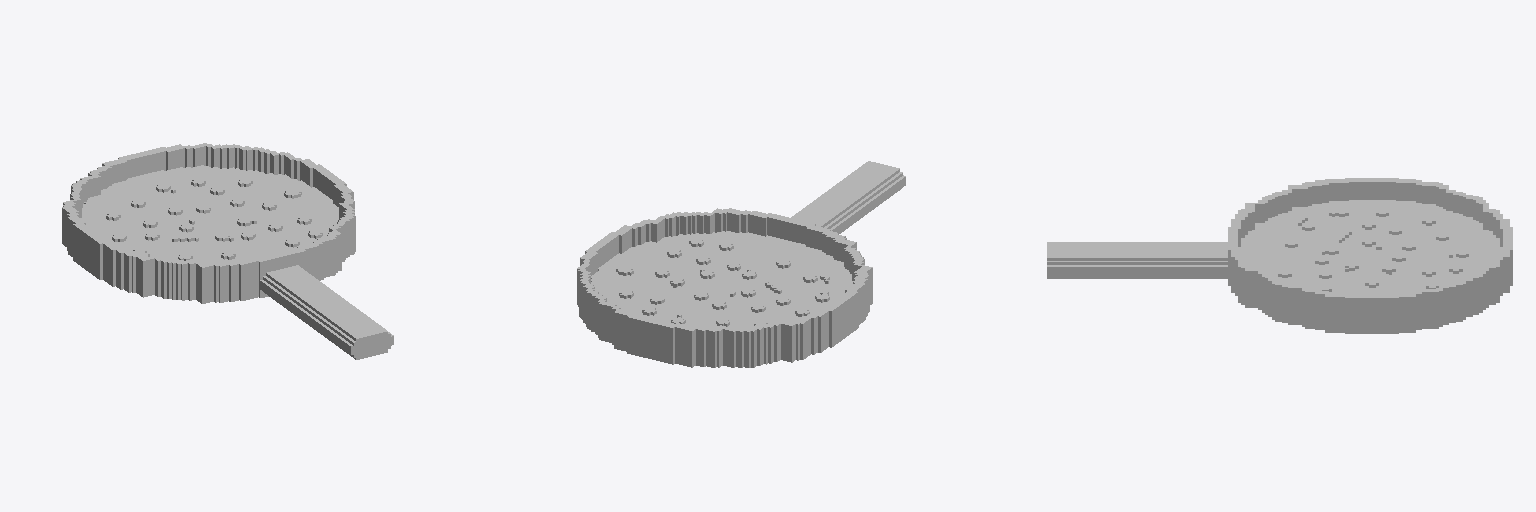
Rendered from SartenArrozTomate.obj.
3 views of the same model, side by side, from view 1: azimuth 30°, elevation 25°; view 2: azimuth 150°, elevation 25°; view 3: azimuth 270°, elevation 25° (orthographic).
Visible parts, largest first — view 1: object 1; view 2: object 1; view 3: object 1.
Boxes of the visible parts, x1=… form: object 1: x1=62, y1=143, x2=393, y2=359; object 1: x1=577, y1=161, x2=905, y2=367; object 1: x1=1047, y1=178, x2=1512, y2=333.
Size of the model in its own units: 8.5 by 1.2 by 13.9.